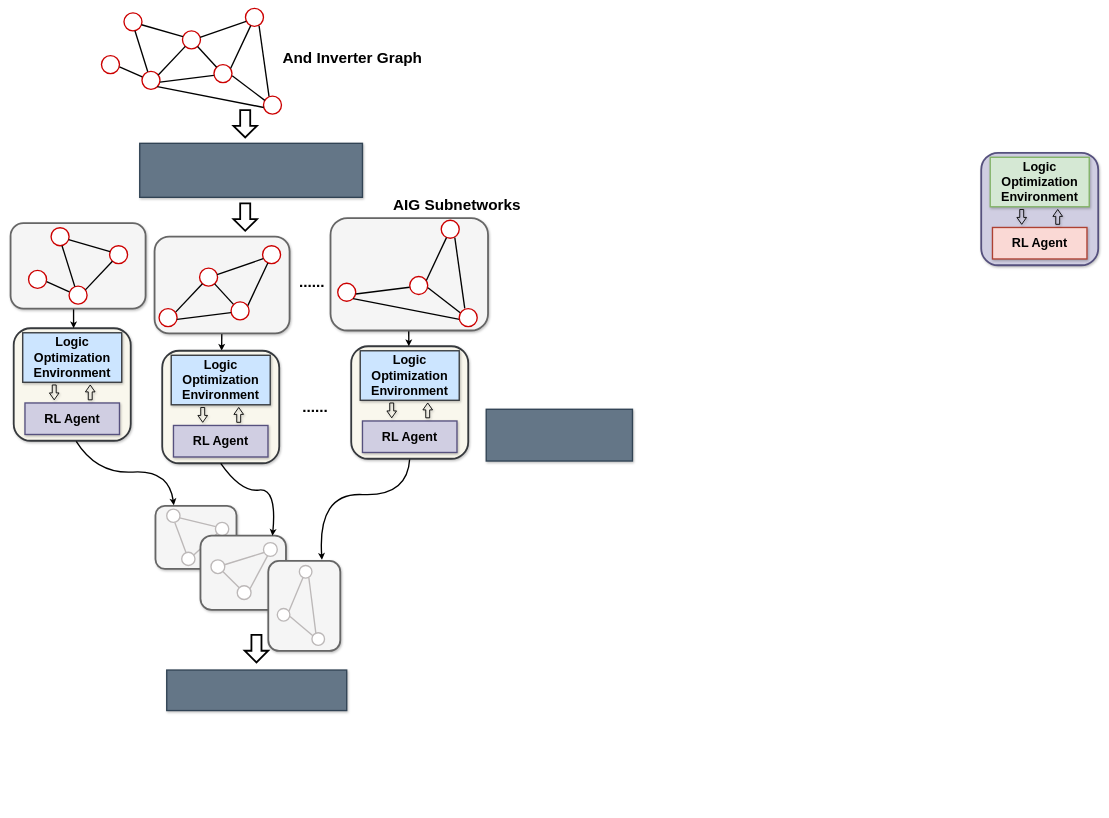
This 1109x818 diagram has some shape labels left out. Here are the shapes that lost their labels. From the top down, the centre of each, then its label:
At point 251,171: "Adaptive MFFC-based Hypergraph Partition".
At point 560,436: "RL-Based Logic Optimize".
At point 257,690: "Subnetworks Merge".
